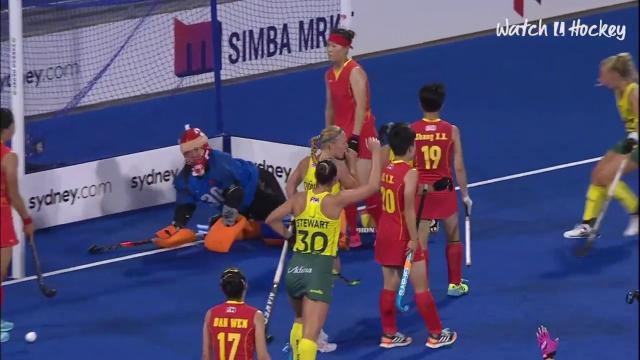ball: (22, 327, 40, 345)
